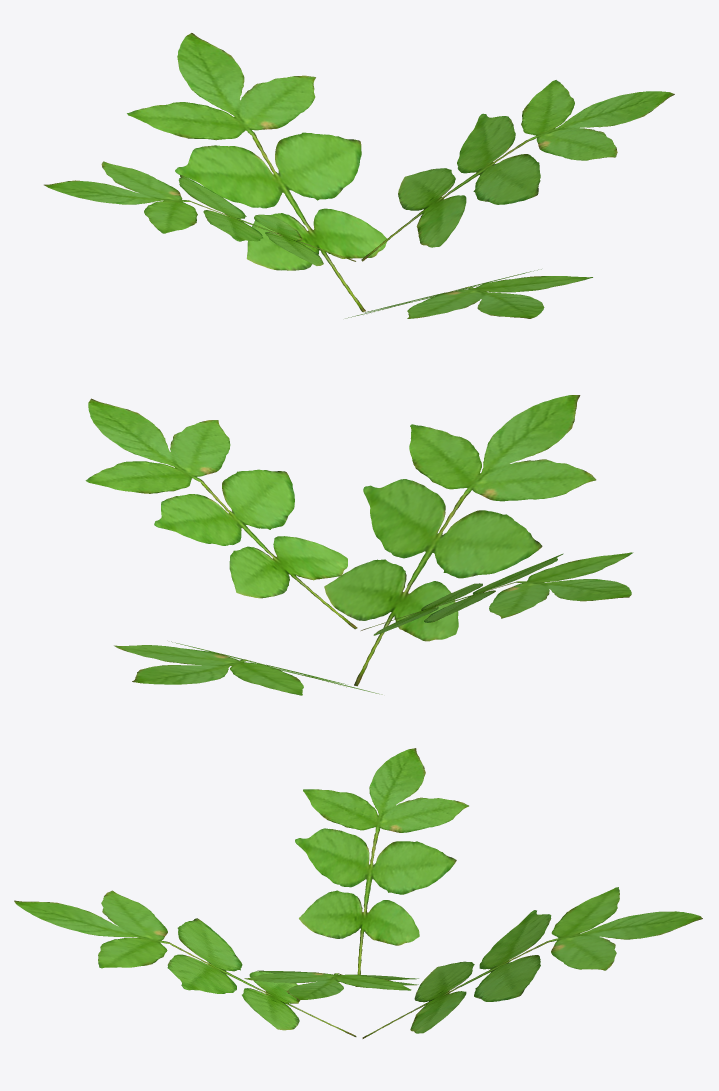
Rendered from GroundFoliage1.fbx.
The picture shows the model from 3 angles, top to bottom: view 1: azimuth 30°, elevation 25°; view 2: azimuth 150°, elevation 25°; view 3: azimuth 270°, elevation 25°; orthographic projection. The views are drawn at different scales.
Visible parts, largest first — view 1: GroundFoliage1; view 2: GroundFoliage1; view 3: GroundFoliage1.
Part boxes in pixels (<box>): GroundFoliage1: <box>44,33,674,318</box>; GroundFoliage1: <box>85,395,633,695</box>; GroundFoliage1: <box>14,748,702,1038</box>.
Bounding box in the file's own units: 104 × 29.56 × 115.
